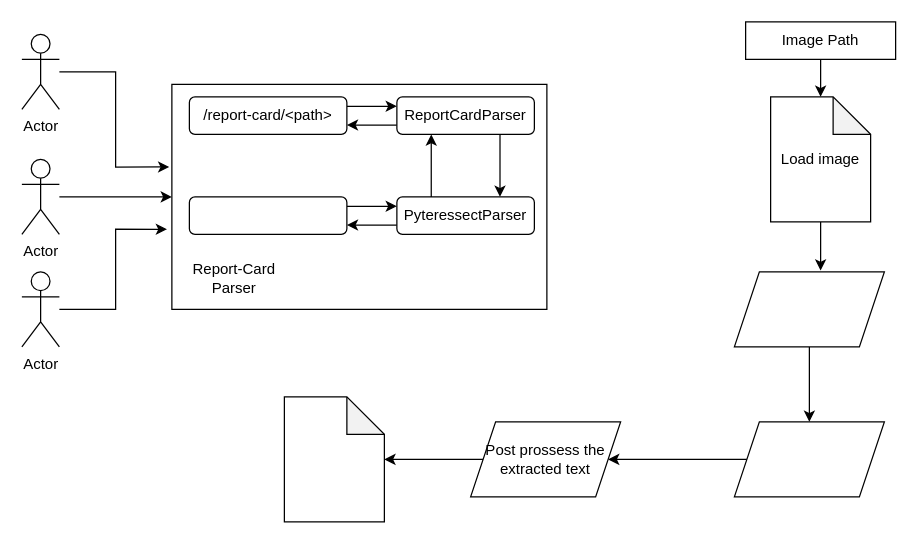
The diagram is 918 pixels wide and 544 high, and some of its shapes have lost their labels. Here are the shapes that lost their labels. From the top down, the centre of each, then its label:
At [267,215]: "/text/<path>".
At [808,309]: "Pre Process Image".
At [333,459]: "Return Output".
At [808,459]: "Extract Text from Image".
